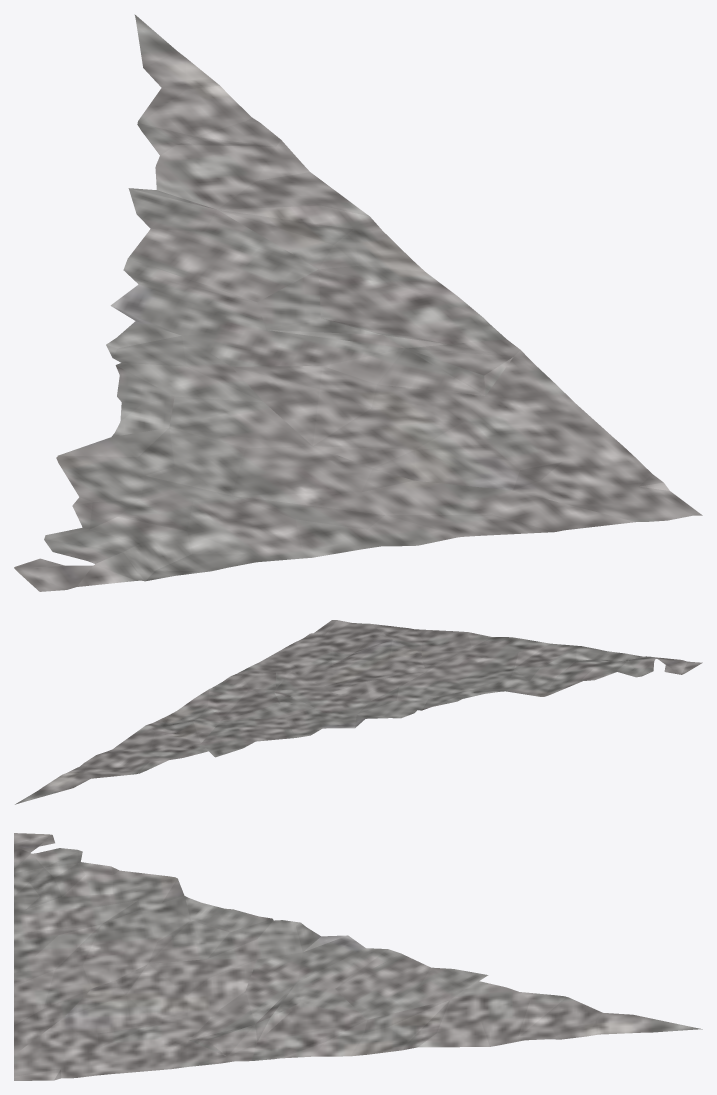
3 renders of one model, top to bottom at view 1: azimuth 30°, elevation 25°; view 2: azimuth 150°, elevation 25°; view 3: azimuth 270°, elevation 25°, orthographic. The views are drawn at different scales.
Size of the model in its own units: 0.4934 by 0.0608 by 0.7324.
1 material, 1 textured.
